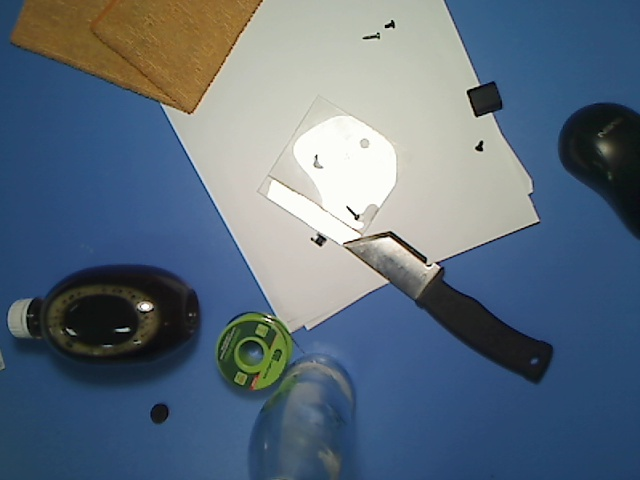plast_bottle: (7, 262, 205, 377)
